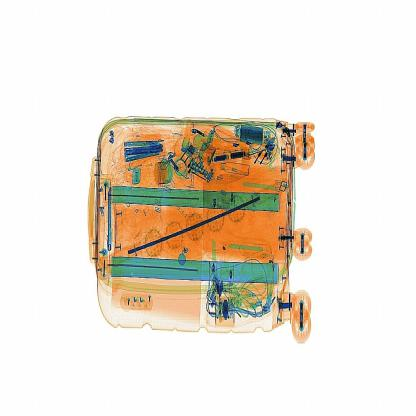pliers: (102, 182, 128, 258)
